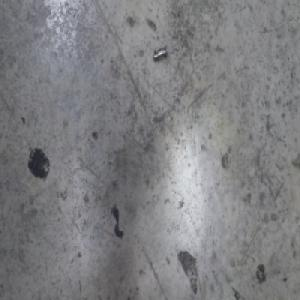Bolt: (153, 44, 168, 63)
